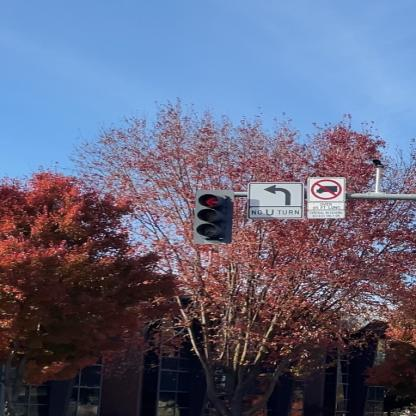left-red: (189, 187, 238, 246)
